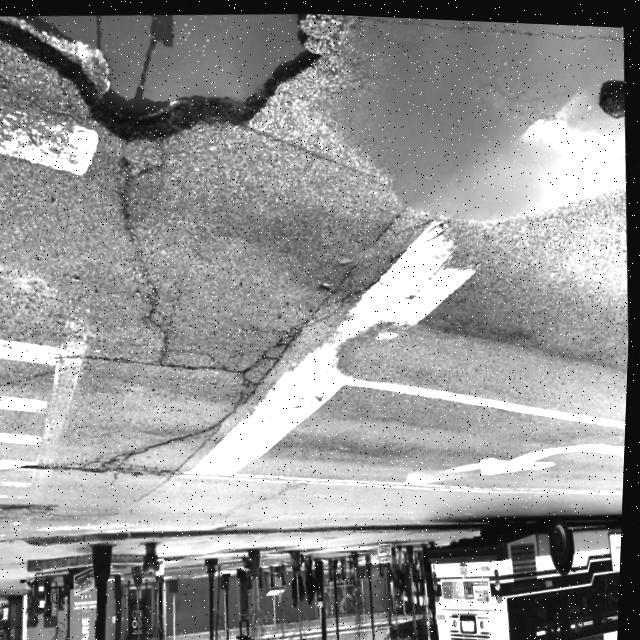pothole: (0, 0, 338, 167)
